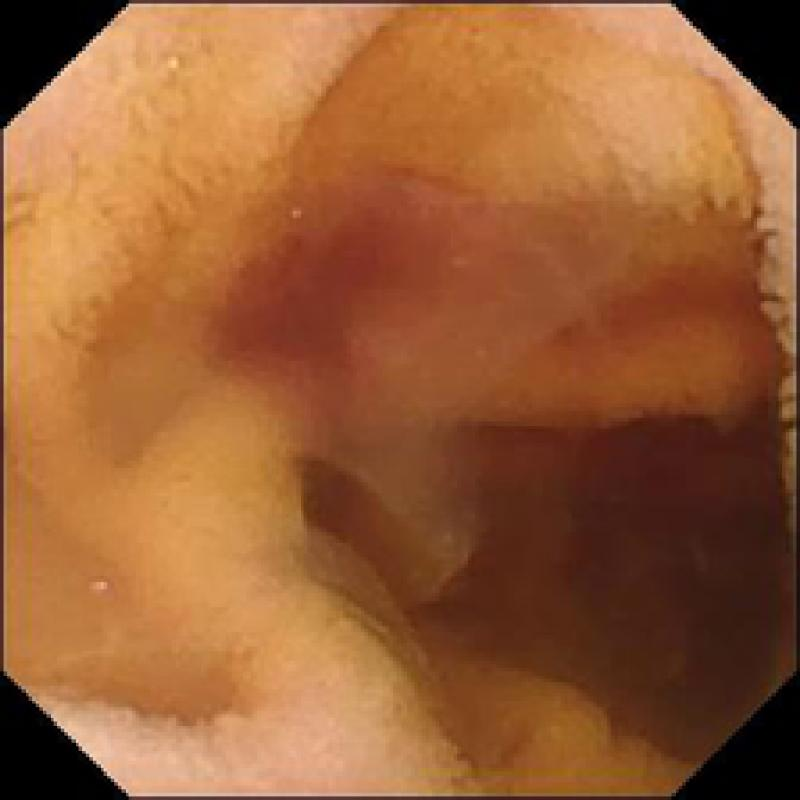bleeding: (207, 218, 457, 375), (560, 272, 794, 430)
